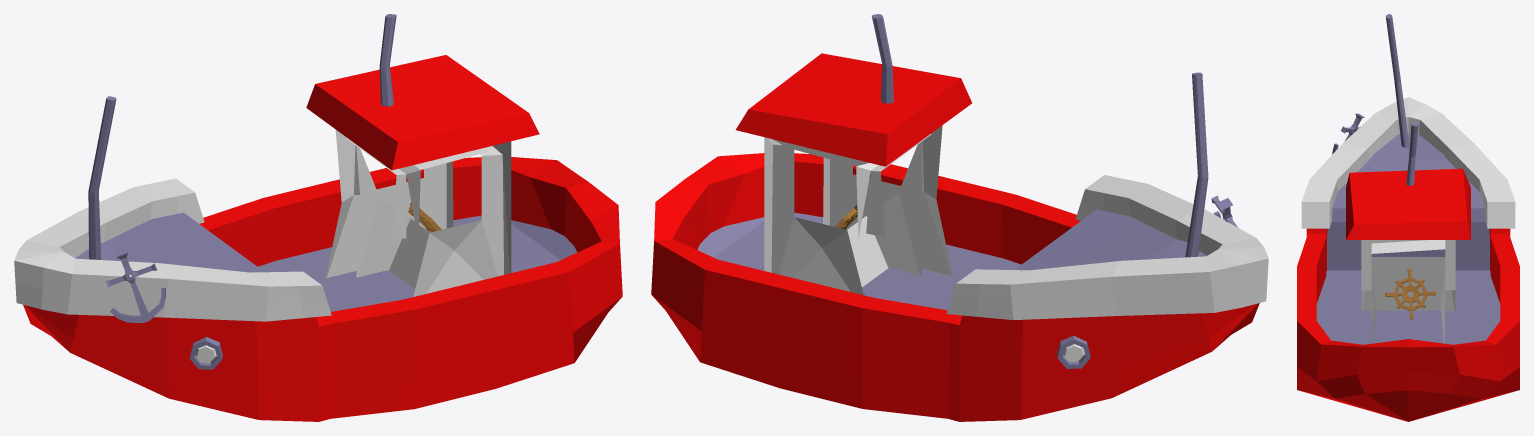
Rendered from boat.glb.
The picture shows the model from 3 angles, left to right: view 1: azimuth 30°, elevation 25°; view 2: azimuth 150°, elevation 25°; view 3: azimuth 270°, elevation 25°; orthographic projection. The views are drawn at different scales.
Visible parts, largest first — view 1: Hull, Hull.002, Cube, Roof, Deck, Hull.001, Cube.002, Cube.001, Cube.003, Windowrim; view 2: Hull, Hull.002, Cube, Roof, Deck, Hull.001, Cube.002, Cube.003, Windowrim; view 3: Hull, Hull.002, Deck, Roof, Hull.001, Cube, Cube.002, Windowglass, Cube.003, Cube.001.
Part boxes in pixels (bbox=[...]): Hull: bbox=[23, 157, 622, 421]; Hull.002: bbox=[14, 178, 331, 321]; Cube: bbox=[325, 130, 511, 296]; Roof: bbox=[306, 55, 539, 170]; Deck: bbox=[258, 215, 577, 311]; Hull.001: bbox=[75, 212, 264, 272]; Cube.002: bbox=[88, 96, 116, 259]; Cube.001: bbox=[106, 252, 165, 322]; Cube.003: bbox=[379, 14, 396, 106]; Windowrim: bbox=[189, 337, 222, 369]; Hull: bbox=[651, 153, 1259, 421]; Hull.002: bbox=[946, 175, 1268, 320]; Cube: bbox=[764, 125, 952, 295]; Roof: bbox=[736, 53, 971, 166]; Deck: bbox=[697, 212, 1021, 310]; Hull.001: bbox=[1014, 209, 1206, 270]; Cube.002: bbox=[1185, 72, 1208, 257]; Cube.003: bbox=[871, 14, 893, 103]; Windowrim: bbox=[1057, 335, 1090, 368]; Hull: bbox=[1297, 228, 1519, 421]; Hull.002: bbox=[1301, 97, 1515, 228]; Deck: bbox=[1316, 270, 1500, 344]; Roof: bbox=[1346, 168, 1470, 239]; Hull.001: bbox=[1327, 134, 1489, 270]; Cube: bbox=[1361, 240, 1455, 343]; Cube.002: bbox=[1385, 14, 1409, 147]; Windowglass: bbox=[1385, 268, 1435, 319]; Cube.003: bbox=[1406, 122, 1418, 185]; Cube.001: bbox=[1332, 113, 1364, 154].
Size of the model in its own units: 3.18 by 1.89 by 1.46.
